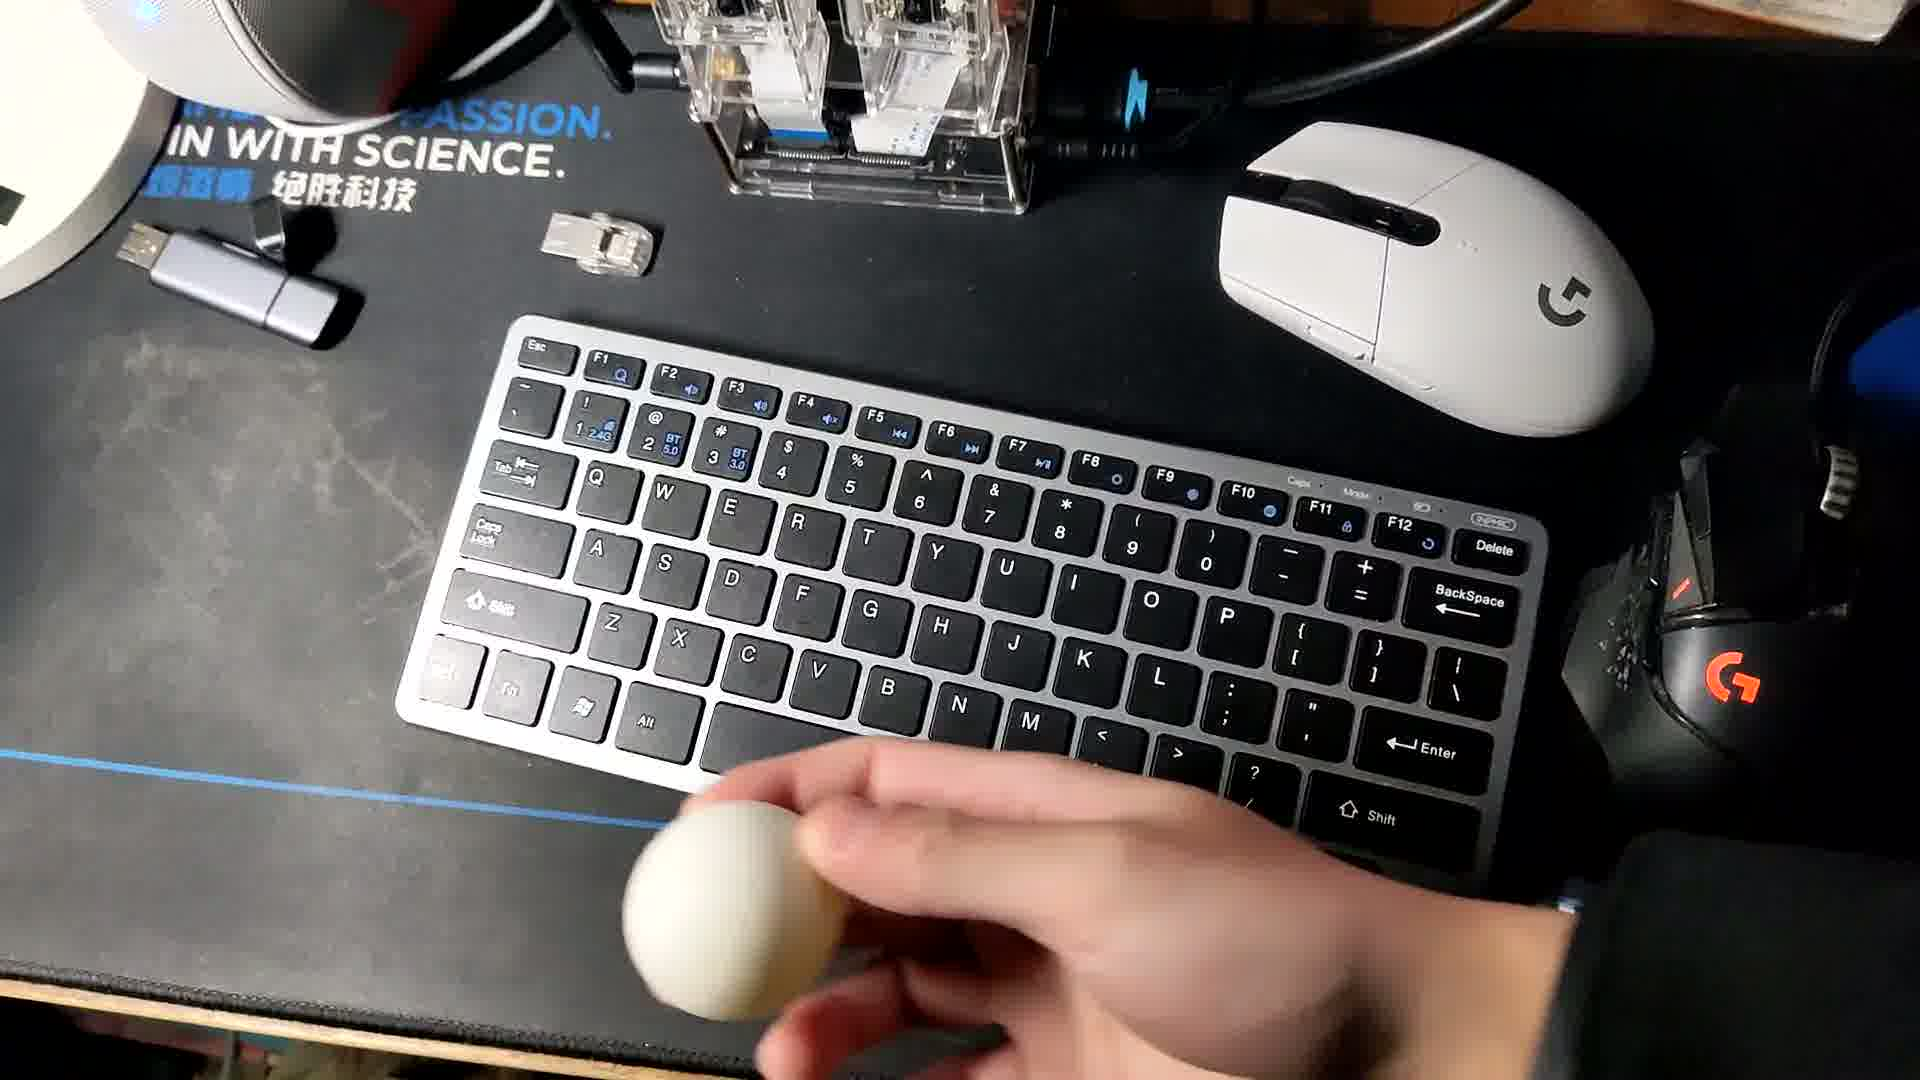Ball: (620, 796, 847, 1017)
